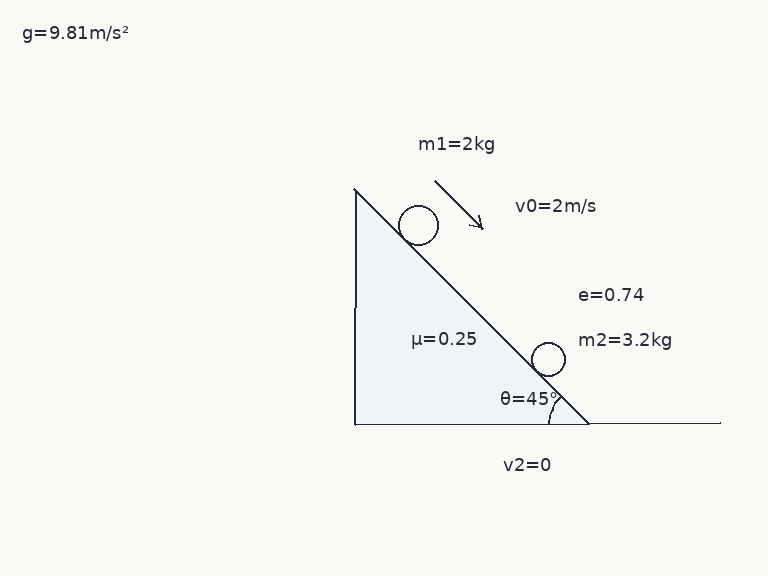ball: (396, 203, 440, 247), (529, 340, 567, 378)
ramp: (352, 187, 591, 426)
